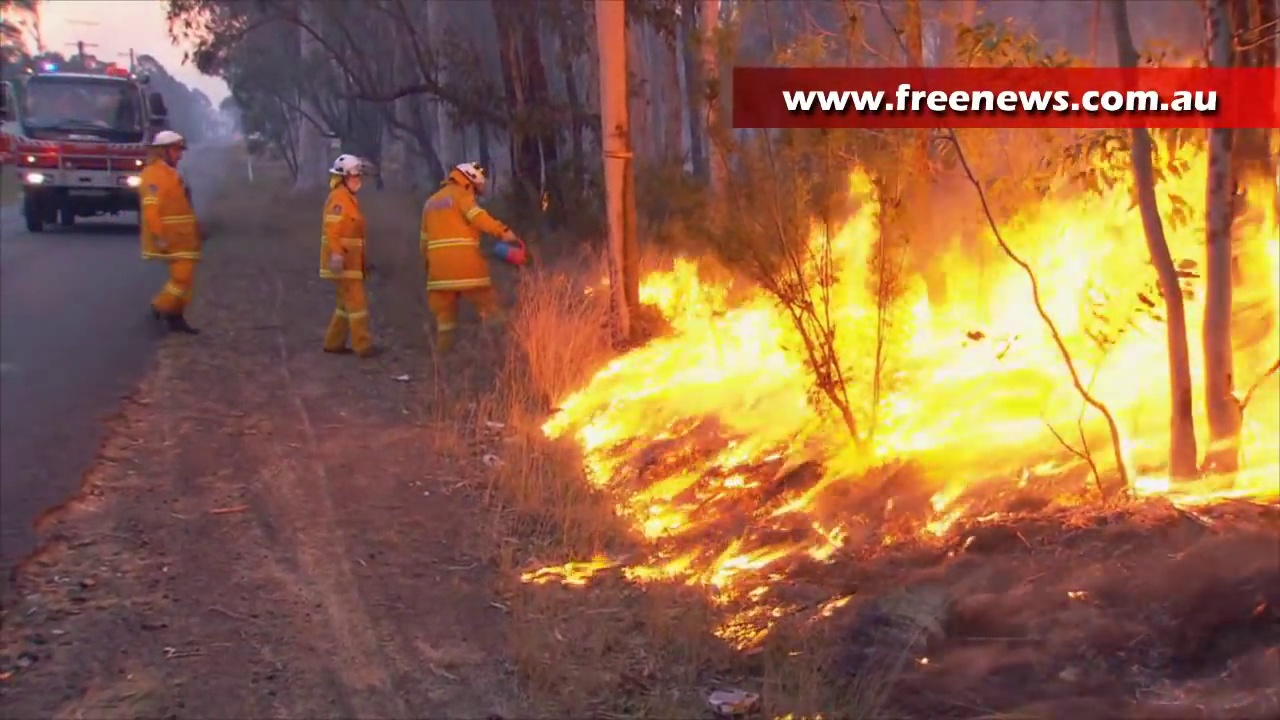fire: (528, 139, 1280, 543), (639, 525, 798, 646), (520, 547, 616, 593)
